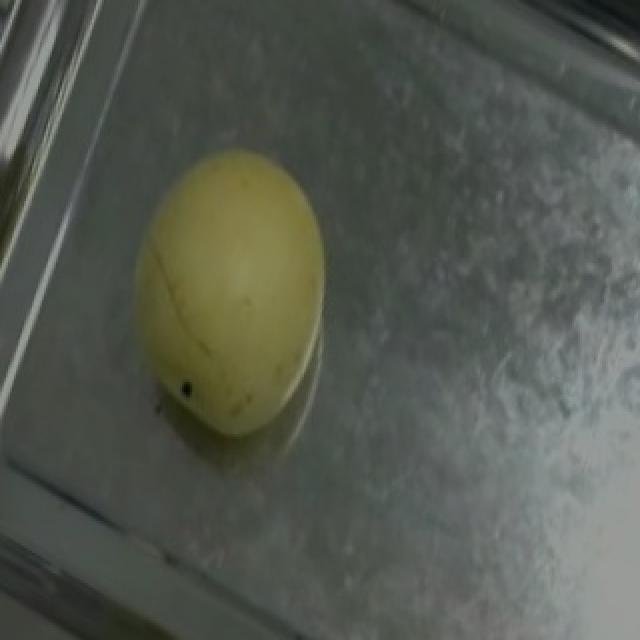Fruit: (80, 107, 378, 464)
